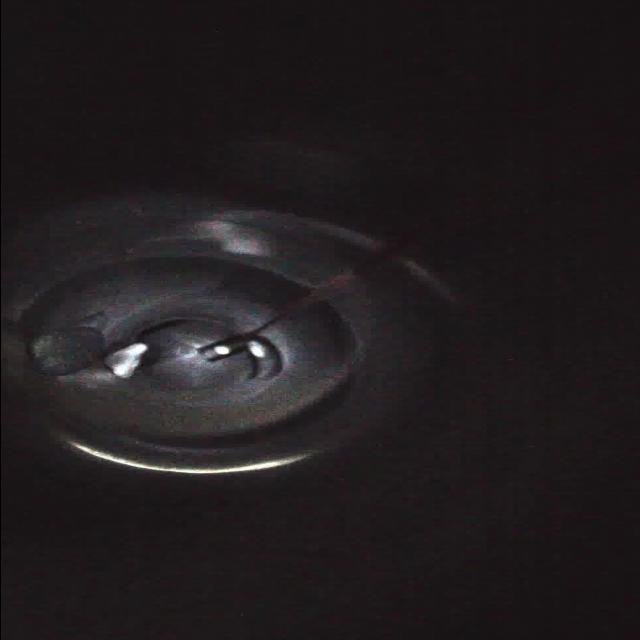impurity: (29, 320, 103, 376), (102, 339, 148, 383)
